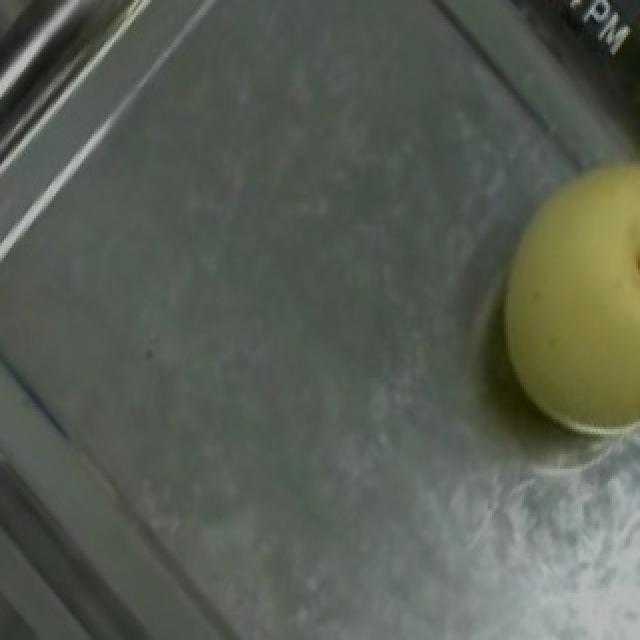Fruit: (452, 116, 640, 468)
